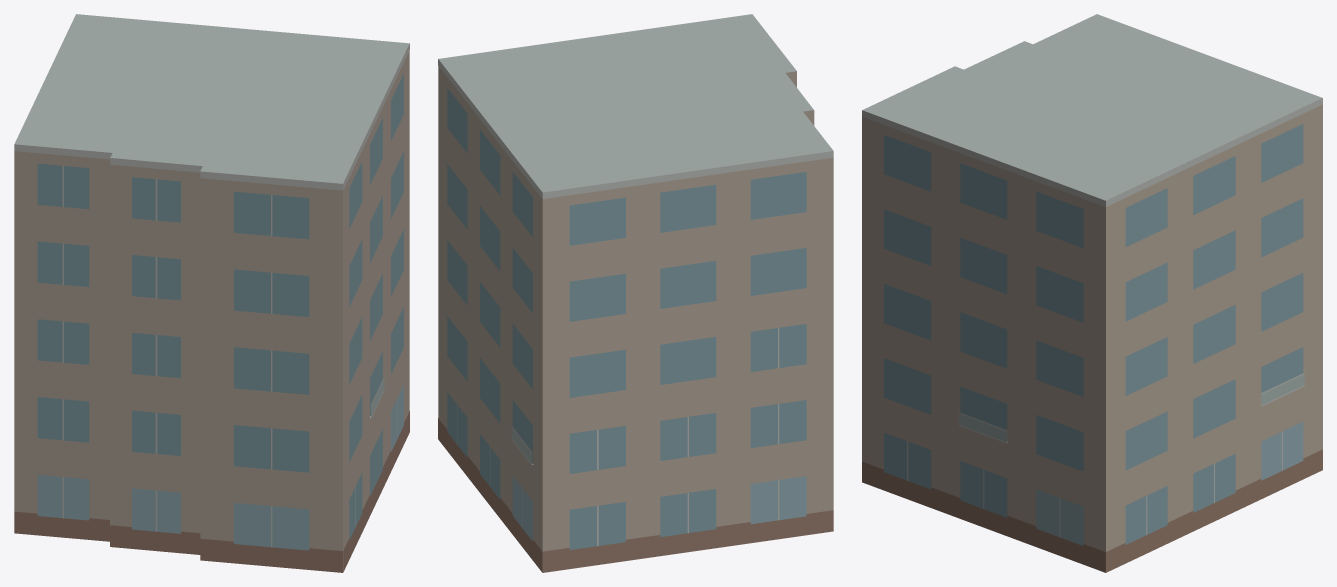
File: survey-upis-32903829.glb
3 renders of one model, left to right at view 1: azimuth 30°, elevation 25°; view 2: azimuth 150°, elevation 25°; view 3: azimuth 270°, elevation 25°, orthographic. The views are drawn at different scales.
Parts seen in each view (by area): view 1: survey-upis-32903829.tmp; view 2: survey-upis-32903829.tmp; view 3: survey-upis-32903829.tmp.
Boxes of the visible parts, x1=… form: survey-upis-32903829.tmp: x1=14, y1=14, x2=409, y2=572; survey-upis-32903829.tmp: x1=438, y1=14, x2=833, y2=572; survey-upis-32903829.tmp: x1=862, y1=14, x2=1322, y2=572.
Bounding box in the file's own units: 15.18 × 14.1 × 15.83.
